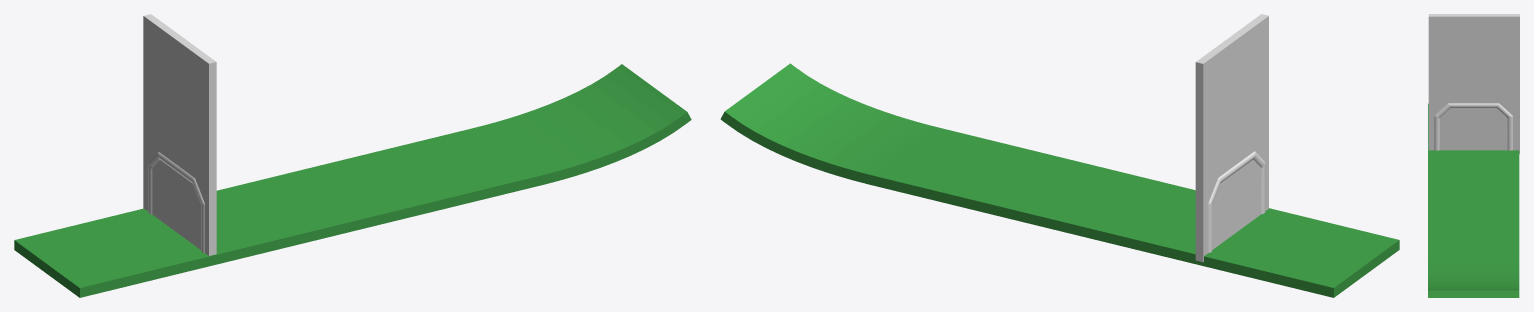
Rendered from track_short.glb.
3 renders of one model, left to right at view 1: azimuth 30°, elevation 25°; view 2: azimuth 150°, elevation 25°; view 3: azimuth 270°, elevation 25°, orthographic. The views are drawn at different scales.
Visible parts, largest first — view 1: Track, Cube, FinishLine; view 2: Track, Cube, FinishLine; view 3: Track, Cube, FinishLine.
Boxes of the visible parts, <box> form: Track: <box>14,64,691,297</box>; Cube: <box>143,14,216,255</box>; FinishLine: <box>148,151,204,252</box>; Track: <box>720,63,1399,297</box>; Cube: <box>1195,14,1268,262</box>; FinishLine: <box>1208,151,1265,252</box>; Track: <box>1428,103,1519,297</box>; Cube: <box>1428,14,1519,154</box>; FinishLine: <box>1434,103,1512,150</box>.
Size of the model in its own units: 162 by 51.05 by 30.23.
